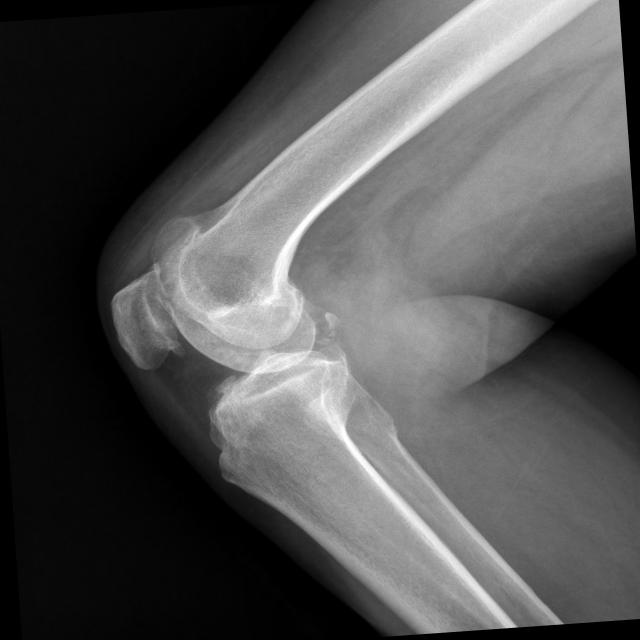Knee: (105, 209, 364, 497)
